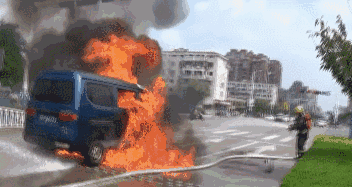fire: (81, 44, 204, 179)
smoke: (17, 9, 176, 37)
